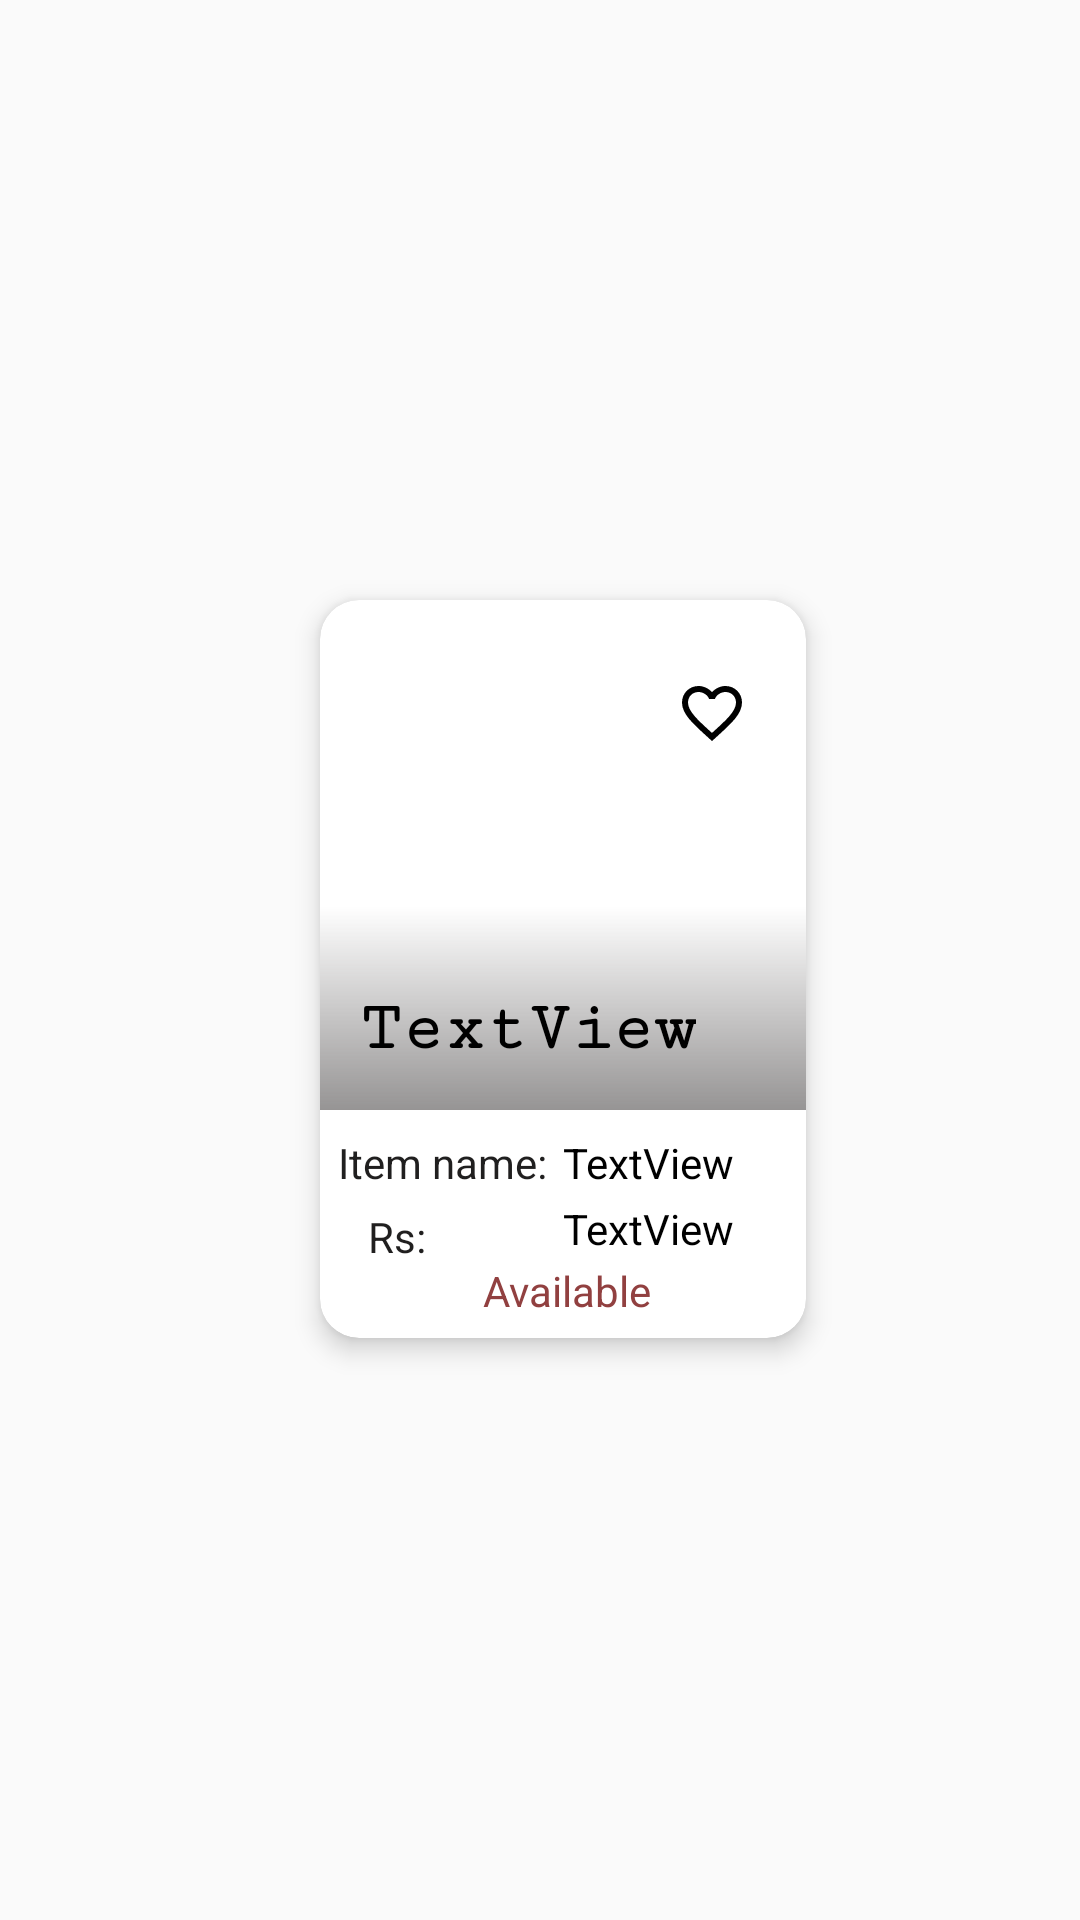

Icons on this 1080px x 1920px Android screen, each with the point to tap as [x,y]:
heartout: [712,713]
